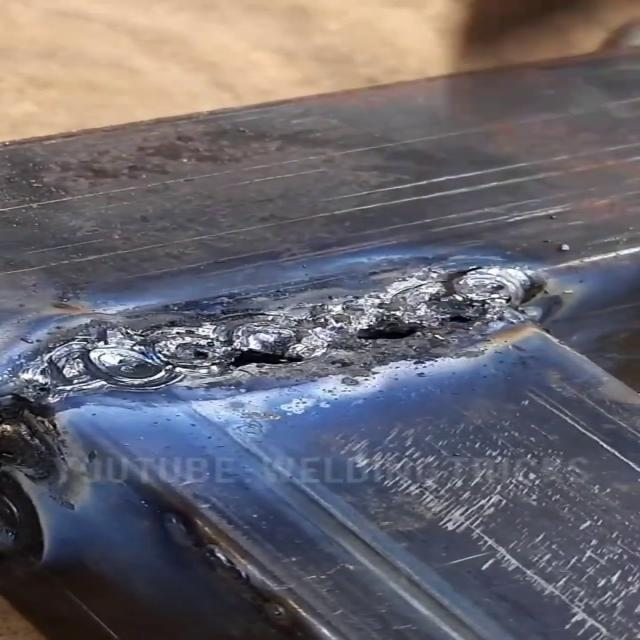Bad Welding: (18, 265, 542, 403)
